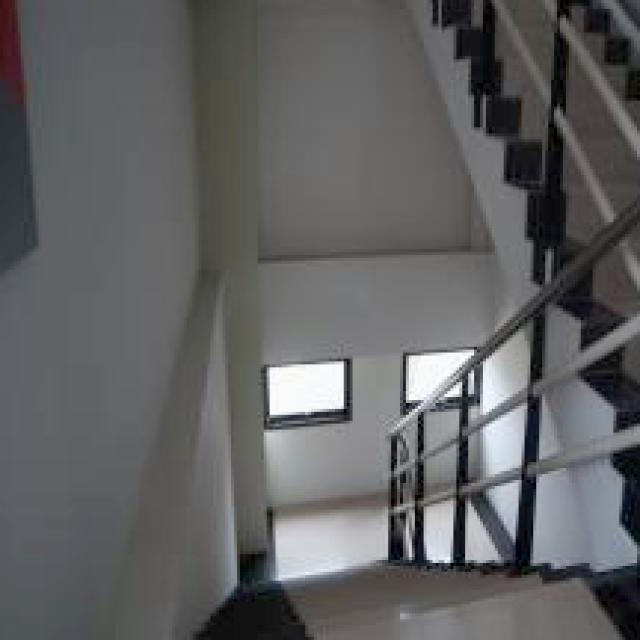downstair: (217, 581, 525, 640)
